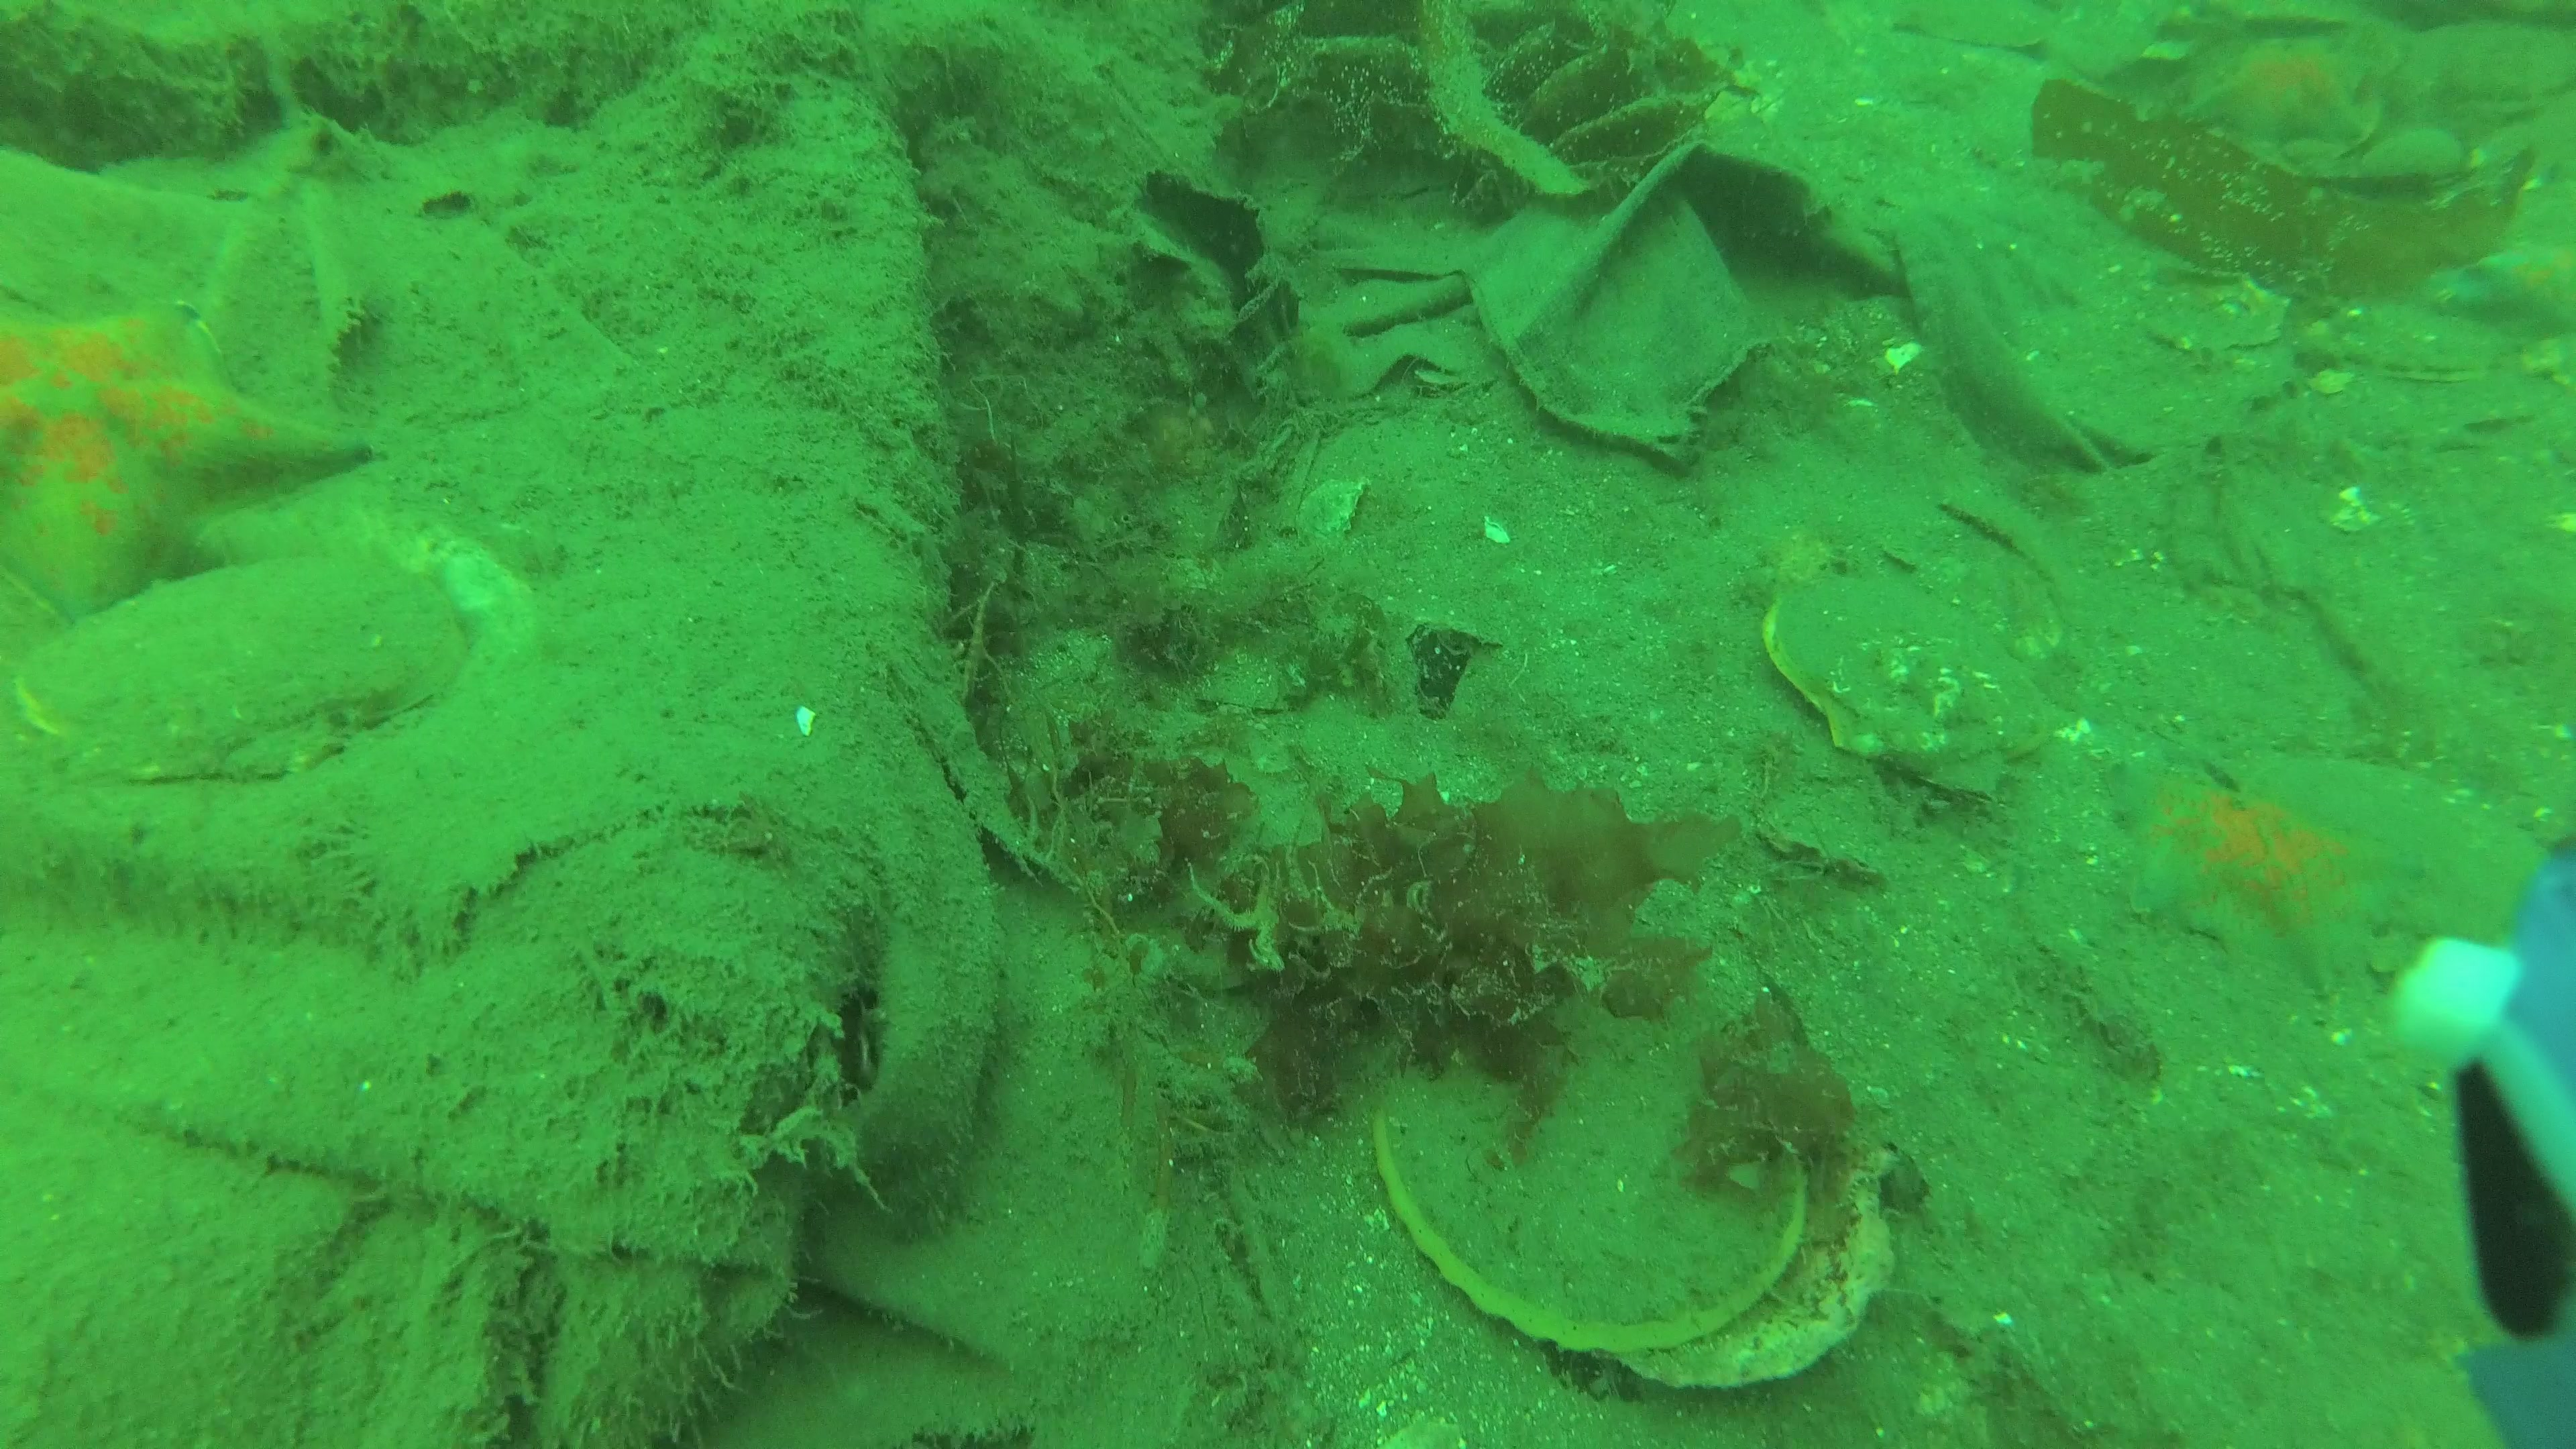scallop: (1369, 991, 1898, 1394), (12, 550, 471, 782), (1760, 571, 2052, 805), (2240, 752, 2551, 943), (2312, 292, 2509, 377), (2130, 269, 2296, 361), (2392, 30, 2571, 115), (1890, 5, 2051, 50), (2357, 126, 2465, 180)
starfish: (0, 299, 375, 616), (2118, 766, 2429, 1003), (2176, 32, 2380, 154), (2427, 237, 2576, 350)
